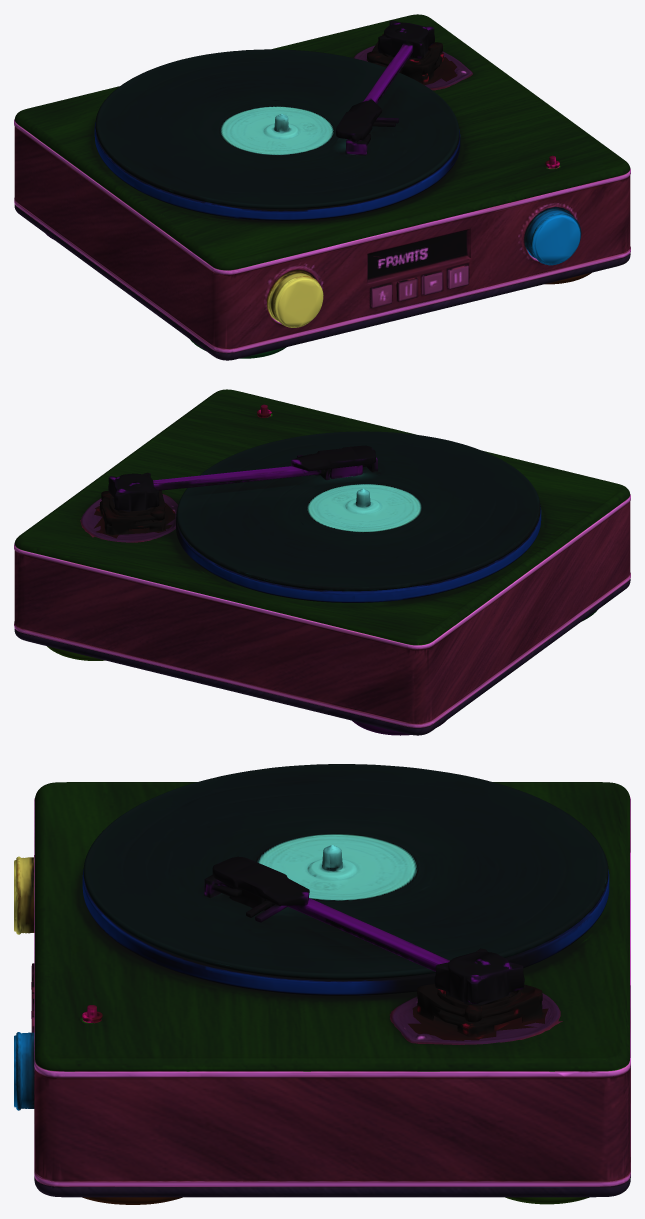
The model's file is 播放器分割.glb.
3 renders of one model, top to bottom at view 1: azimuth 30°, elevation 25°; view 2: azimuth 150°, elevation 25°; view 3: azimuth 270°, elevation 25°, orthographic. The views are drawn at different scales.
Parts seen in each view (by area): view 1: part_8, part_9, part_7, part_6, part_13, part_11, part_3, part_10, part_5; view 2: part_8, part_9, part_7, part_11, part_6, part_13, part_5; view 3: part_9, part_8, part_7, part_11, part_6, part_13, part_5, part_3, part_10.
Boxes of the visible parts, bbox=[...] form: part_8: bbox=[14, 45, 630, 353]; part_9: bbox=[95, 49, 459, 209]; part_7: bbox=[14, 14, 630, 270]; part_6: bbox=[94, 122, 460, 220]; part_13: bbox=[14, 204, 630, 360]; part_11: bbox=[336, 20, 434, 155]; part_3: bbox=[524, 207, 581, 265]; part_10: bbox=[267, 270, 323, 327]; part_5: bbox=[366, 33, 457, 85]; part_8: bbox=[14, 494, 630, 727]; part_9: bbox=[176, 431, 540, 591]; part_7: bbox=[14, 389, 630, 645]; part_11: bbox=[108, 445, 377, 511]; part_6: bbox=[176, 505, 541, 602]; part_13: bbox=[14, 579, 630, 735]; part_5: bbox=[94, 490, 175, 538]; part_9: bbox=[83, 764, 608, 979]; part_8: bbox=[31, 797, 630, 1186]; part_7: bbox=[35, 782, 630, 1071]; part_11: bbox=[204, 856, 524, 1005]; part_6: bbox=[82, 869, 609, 995]; part_13: bbox=[34, 1174, 630, 1197]; part_5: bbox=[408, 984, 548, 1040]; part_3: bbox=[14, 1032, 34, 1110]; part_10: bbox=[14, 856, 34, 934].
Bounding box in the file's own units: 0.8927 × 0.3042 × 0.8188.
Materials: 1 (1 with a texture image).
